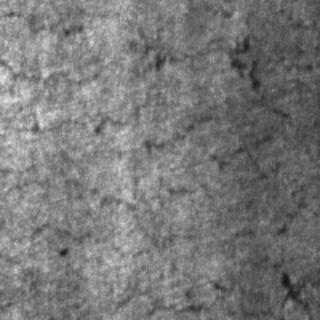crazing: (6, 27, 218, 155), (114, 99, 306, 233), (0, 178, 216, 250), (100, 21, 272, 91)
